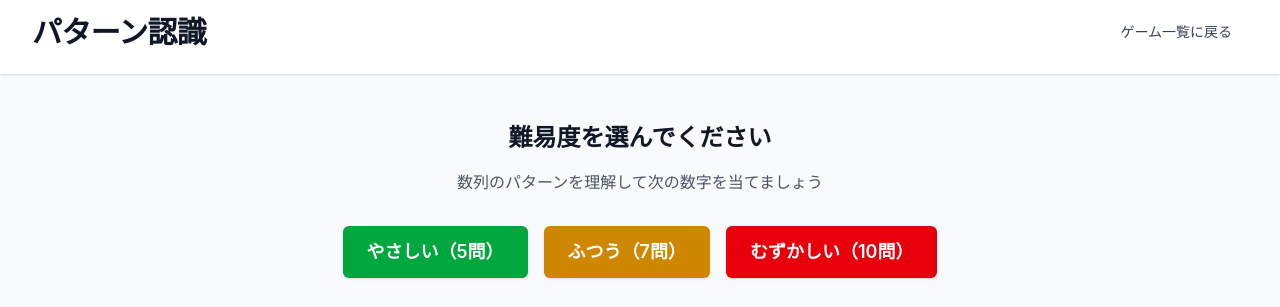
Test case: PatternGame › should show score on game over
Click the button "やさしい（5問）" at [435, 252], box [342, 226, 528, 278]
Wait 60000 ms
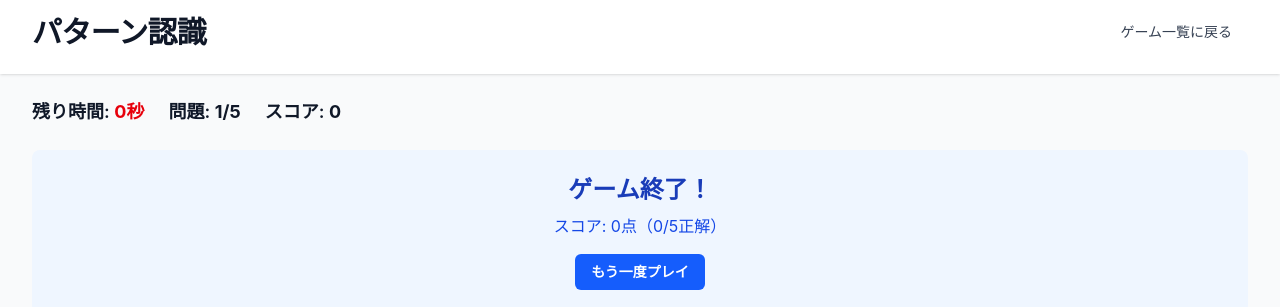
Check: the heading "ゲーム終了！" is shown, box [568, 175, 712, 204]
Check: the button "もう一度プレイ" is shown, box [575, 254, 705, 290]
